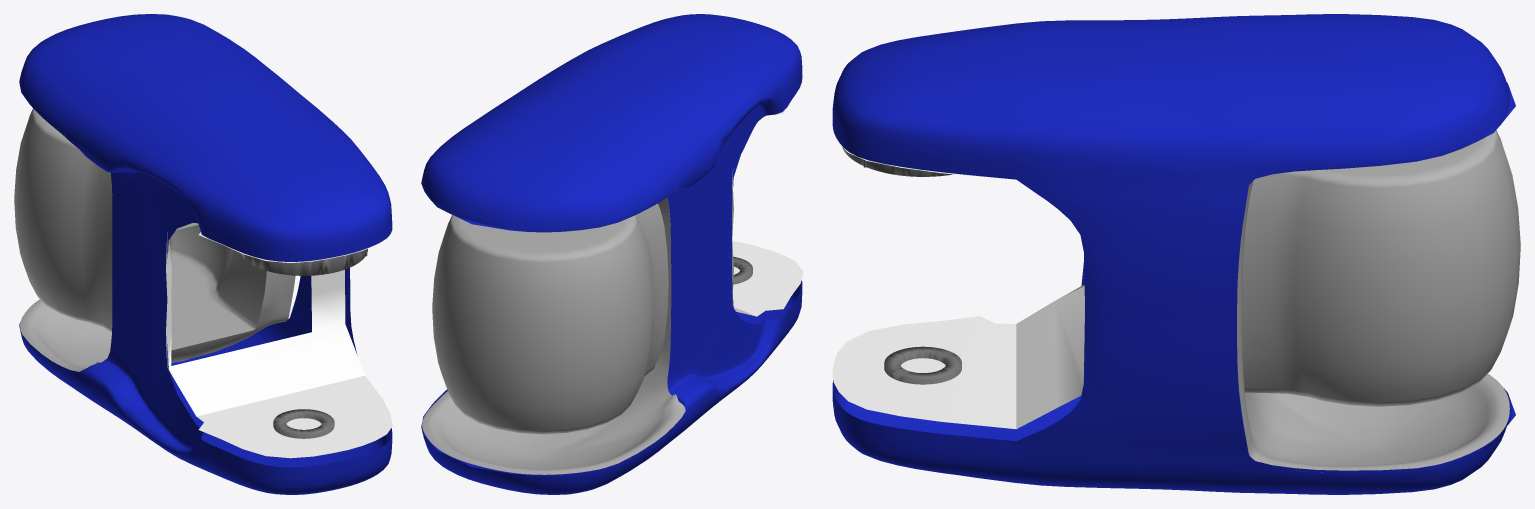
The model's file is l_knee_link.obj.
3 renders of one model, left to right at view 1: azimuth 30°, elevation 25°; view 2: azimuth 150°, elevation 25°; view 3: azimuth 270°, elevation 25°, orthographic. The views are drawn at different scales.
Bounding box in the file's own units: 0.0422 × 0.0604 × 0.0895.
